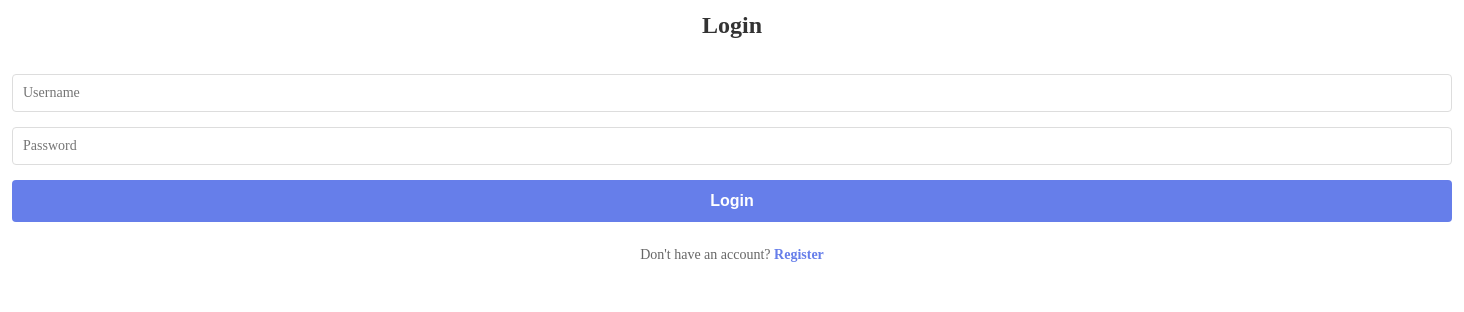
it: Login Component Integration Tests (Mocking Fetch) › Đăng nhập thất bại - Hiển thị thông báo lỗi API
In the field with test id "username-input": [732, 93] box [12, 74, 1452, 112], type "wronguser"
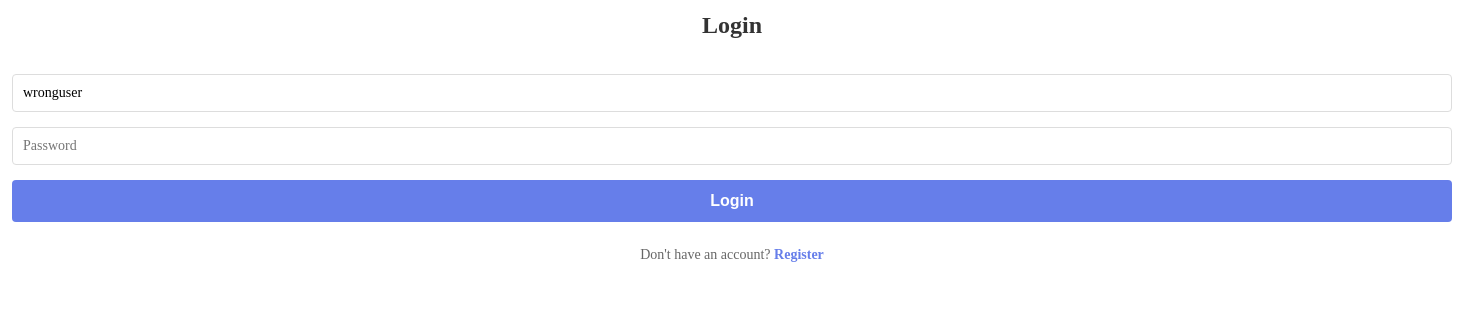
In the password field with test id "password-input": [732, 146] box [12, 127, 1452, 165], type "Wrong123"
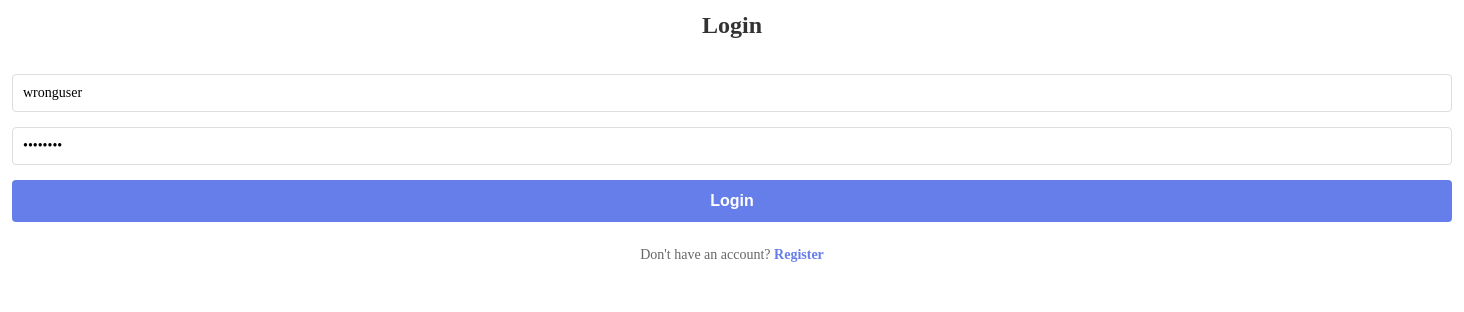
Click the button with test id "login-button": [732, 201] box [12, 180, 1452, 222]
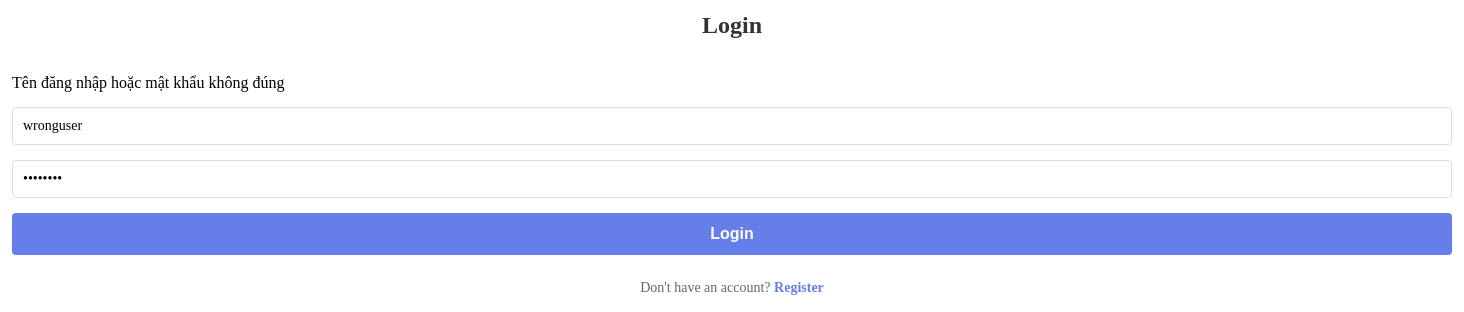
Result: the text with test id "login-message" reads "Tên đăng nhập hoặc mật khẩu không đúng" at [12, 74, 284, 91]
